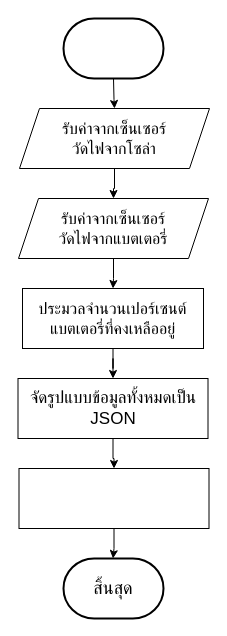
This 227x636 diagram has some shape labels left out. The box of each missing label's shape, as (x1, y1, x2, y2) in pixels:
ส่งข้อมูลเพื่อนำไปแสดง / ประมวลผลต่อไป: (18, 468, 209, 528)
เริ่มต้น: (62, 17, 164, 79)
